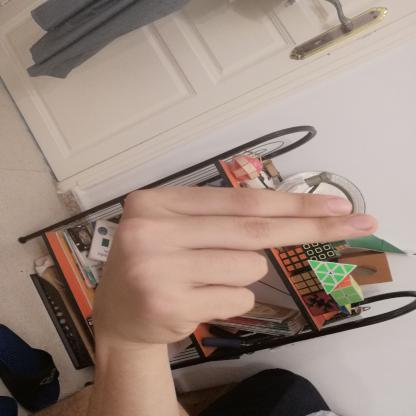AYN: (76, 169, 394, 360)
